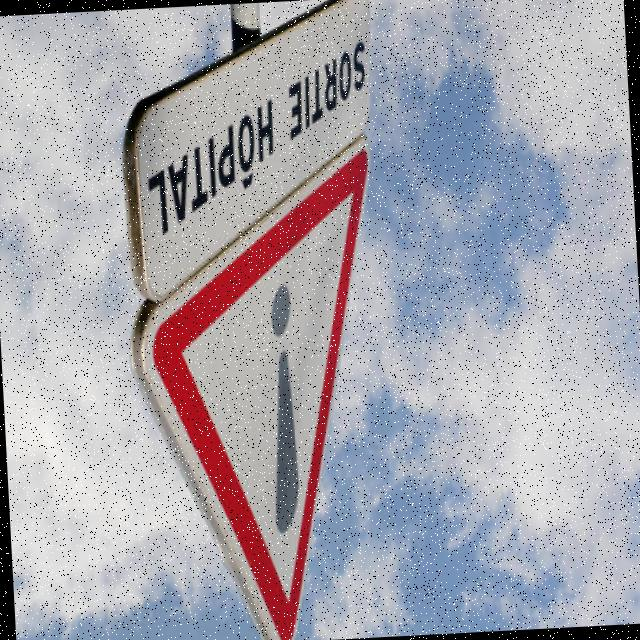warning: (82, 145, 401, 640)
